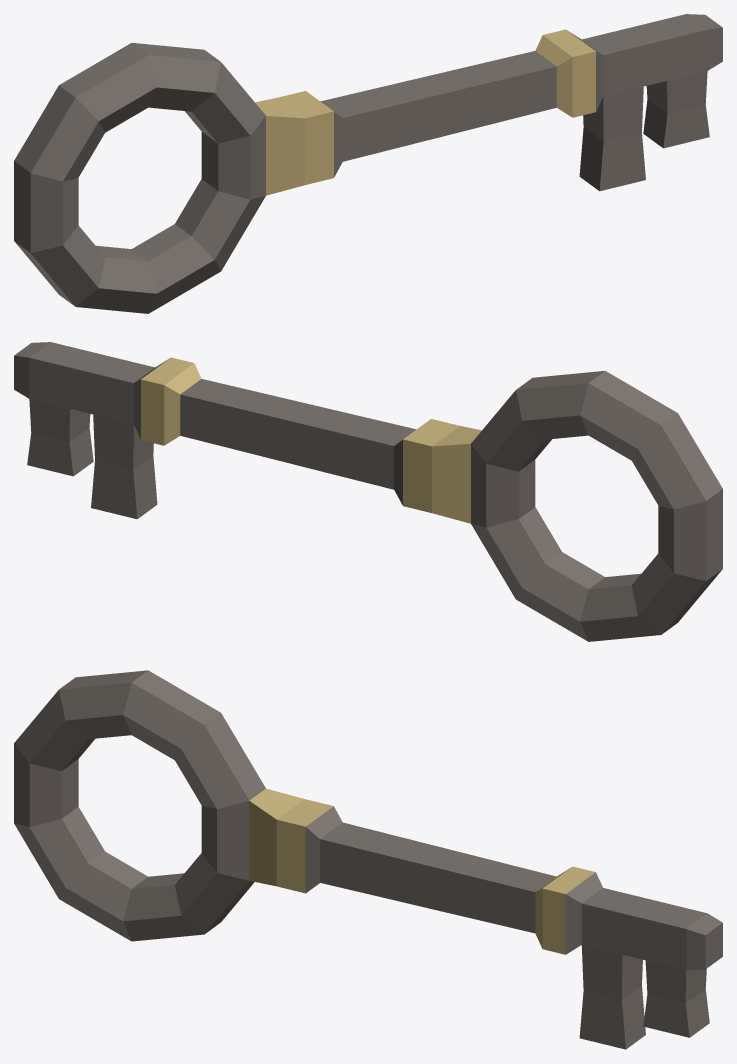
The model's file is llave.fbx.
3 views of the same model, one above another, from view 1: azimuth 30°, elevation 25°; view 2: azimuth 150°, elevation 25°; view 3: azimuth 330°, elevation 25° (orthographic).
Parts seen in each view (by area): view 1: llave; view 2: llave; view 3: llave.
Part boxes in pixels (x1,y1,x2,y2): llave: [14, 14, 722, 313]; llave: [14, 342, 722, 641]; llave: [14, 670, 722, 1049].
Bounding box in the file's own units: 11.93 × 4.27 × 1.
